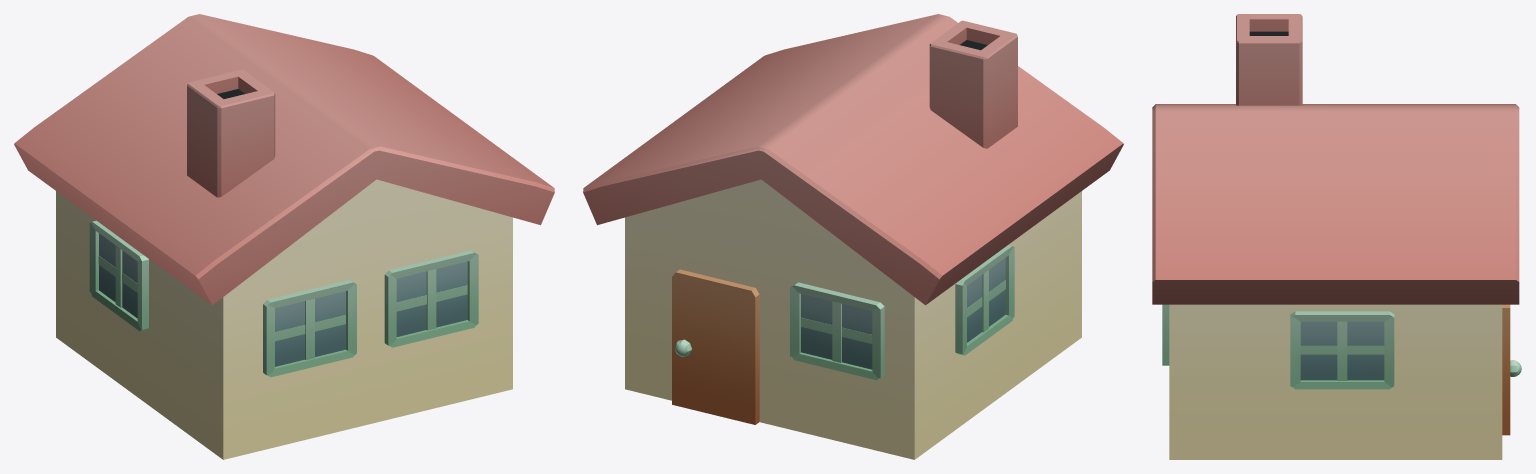
Rendered from housePinkLight.fbx.
The picture shows the model from 3 angles, left to right: view 1: azimuth 30°, elevation 25°; view 2: azimuth 150°, elevation 25°; view 3: azimuth 270°, elevation 25°; orthographic projection.
Parts seen in each view (by area): view 1: HousePink; view 2: HousePink; view 3: HousePink.
Part boxes in pixels (box(x1,y1,x2,y2)): HousePink: box(14, 14, 554, 459); HousePink: box(583, 14, 1123, 459); HousePink: box(1152, 14, 1521, 459).
Size of the model in its own units: 6.2 by 5.3 by 5.55.
